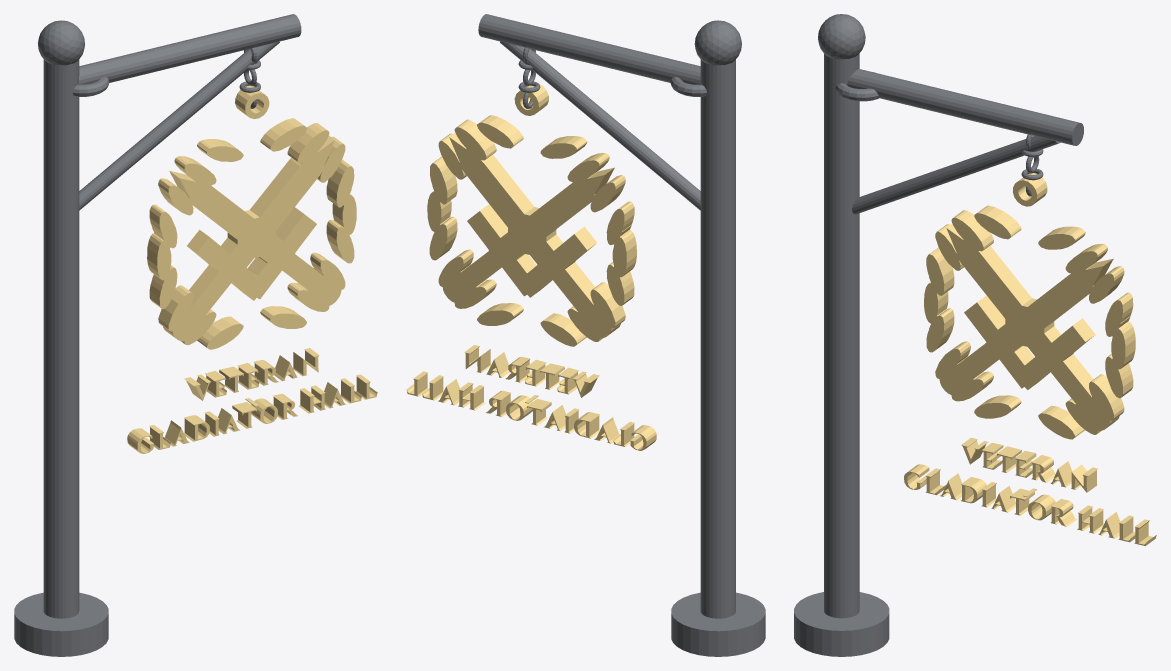
Rendered from veteran_hall.glb.
3 renders of one model, left to right at view 1: azimuth 30°, elevation 25°; view 2: azimuth 150°, elevation 25°; view 3: azimuth 330°, elevation 25°, orthographic.
Visible parts, largest first — view 1: sign, post, arm, post_base, brace, post_cap; view 2: sign, post, arm, post_base, brace, post_cap; view 3: sign, post, arm, post_base, brace, post_cap, scroll.
Part boxes in pixels (x1,y1,x2,y2): sign: (127, 85, 377, 453); post: (43, 59, 79, 618); arm: (78, 14, 301, 84); post_base: (14, 592, 108, 656); brace: (79, 41, 279, 210); post_cap: (38, 20, 84, 65); sign: (406, 84, 656, 450); post: (700, 60, 735, 618); arm: (478, 14, 700, 84); post_base: (671, 592, 765, 656); brace: (500, 41, 700, 210); post_cap: (694, 20, 741, 65); sign: (904, 173, 1156, 545); post: (824, 53, 859, 618); arm: (847, 69, 1083, 145); post_base: (794, 592, 889, 656); brace: (852, 136, 1060, 214); post_cap: (818, 14, 865, 59); scroll: (835, 72, 879, 101).
Bounding box in the file's own units: 1.7 × 2.86 × 0.3978.
